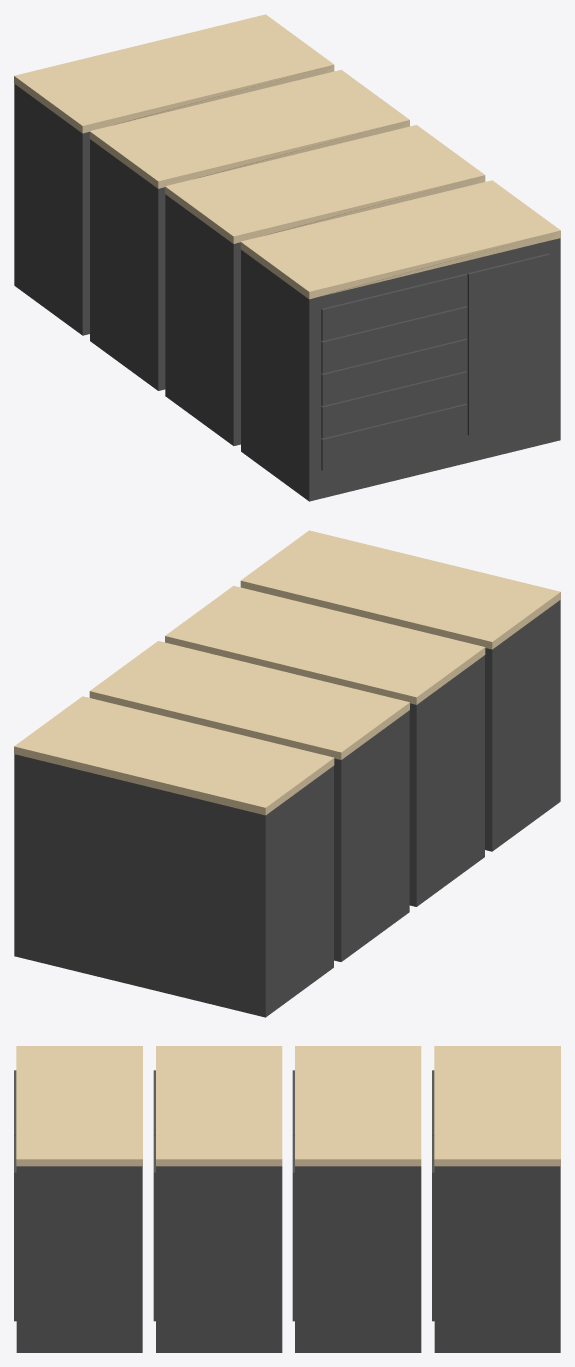
The picture shows the model from 3 angles, top to bottom: view 1: azimuth 30°, elevation 25°; view 2: azimuth 150°, elevation 25°; view 3: azimuth 270°, elevation 25°; orthographic projection. The views are drawn at different scales.
Parts seen in each view (by area): view 1: imagetostl_mesh4, imagetostl_mesh44, imagetostl_mesh134, imagetostl_mesh98, imagetostl_mesh9, imagetostl_mesh2, imagetostl_mesh45, imagetostl_mesh95, imagetostl_mesh133, imagetostl_mesh35, imagetostl_mesh25, imagetostl_mesh30 (+10 smaller); view 2: imagetostl_mesh127, imagetostl_mesh4, imagetostl_mesh98, imagetostl_mesh134, imagetostl_mesh44, imagetostl_mesh133, imagetostl_mesh2, imagetostl_mesh45, imagetostl_mesh95, imagetostl_mesh152, imagetostl_mesh90, imagetostl_mesh5 (+4 smaller); view 3: imagetostl_mesh81, imagetostl_mesh82, imagetostl_mesh118, imagetostl_mesh129, imagetostl_mesh4, imagetostl_mesh134, imagetostl_mesh44, imagetostl_mesh98, imagetostl_mesh8, imagetostl_mesh128, imagetostl_mesh43, imagetostl_mesh89 (+4 smaller).
Part boxes in pixels (<box>): imagetostl_mesh4: <box>241,180,560,291</box>; imagetostl_mesh44: <box>165,125,484,236</box>; imagetostl_mesh134: <box>14,14,333,125</box>; imagetostl_mesh98: <box>90,69,409,181</box>; imagetostl_mesh9: <box>309,238,560,501</box>; imagetostl_mesh2: <box>241,250,309,501</box>; imagetostl_mesh45: <box>165,194,233,445</box>; imagetostl_mesh95: <box>90,139,158,390</box>; imagetostl_mesh133: <box>14,84,82,335</box>; imagetostl_mesh35: <box>469,254,549,435</box>; imagetostl_mesh25: <box>322,372,467,438</box>; imagetostl_mesh30: <box>322,404,467,470</box>; imagetostl_mesh127: <box>14,754,265,1017</box>; imagetostl_mesh4: <box>241,530,560,641</box>; imagetostl_mesh98: <box>90,641,409,752</box>; imagetostl_mesh134: <box>14,696,333,807</box>; imagetostl_mesh44: <box>165,585,484,697</box>; imagetostl_mesh133: <box>265,766,333,1017</box>; imagetostl_mesh2: <box>492,600,560,851</box>; imagetostl_mesh45: <box>416,655,484,906</box>; imagetostl_mesh95: <box>341,710,409,961</box>; imagetostl_mesh152: <box>14,746,265,815</box>; imagetostl_mesh90: <box>89,691,341,759</box>; imagetostl_mesh5: <box>240,581,492,649</box>; imagetostl_mesh81: <box>156,1166,282,1352</box>; imagetostl_mesh82: <box>16,1166,142,1352</box>; imagetostl_mesh118: <box>295,1166,421,1352</box>; imagetostl_mesh129: <box>434,1166,560,1352</box>; imagetostl_mesh4: <box>16,1046,142,1159</box>; imagetostl_mesh134: <box>434,1046,560,1159</box>; imagetostl_mesh44: <box>156,1046,282,1159</box>; imagetostl_mesh98: <box>295,1046,421,1159</box>; imagetostl_mesh8: <box>16,1159,142,1166</box>; imagetostl_mesh128: <box>434,1159,560,1166</box>; imagetostl_mesh43: <box>156,1159,282,1166</box>; imagetostl_mesh89: <box>295,1159,421,1166</box>.
Bounding box in the file's own units: 0.8205 × 0.6535 × 1.67.
